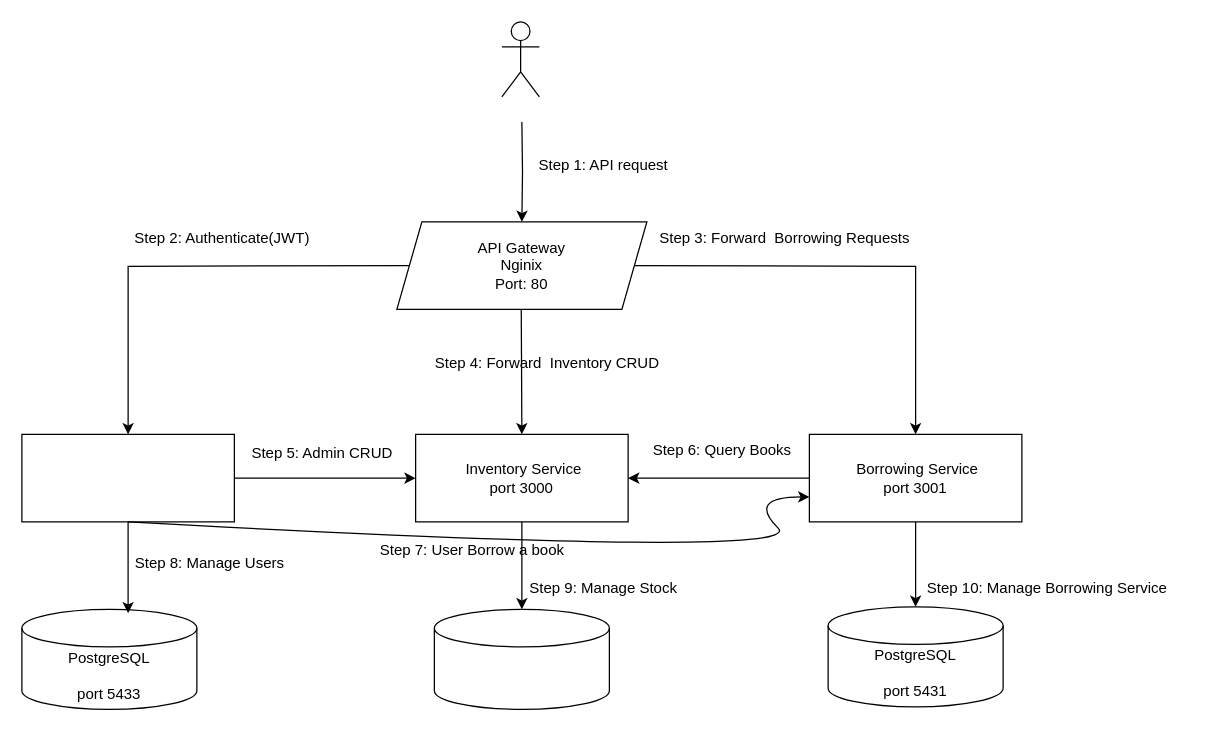
This 1206x731 diagram has some shape labels left out. Each missing label, with the box of its shape:
Actor: (501, 21, 539, 97)
PostgreSQL port 5432: (433, 608, 609, 709)
User Service port 8000: (21, 433, 234, 522)
